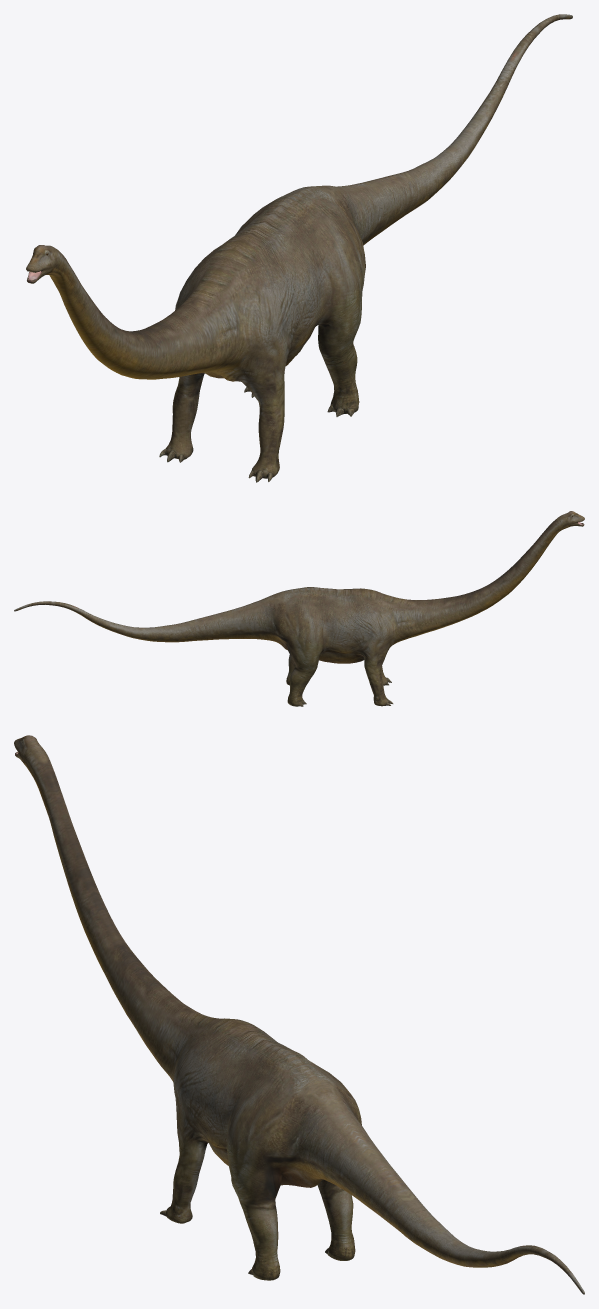
The model's file is dinosaurio3.fbx.
3 views of the same model, one above another, from view 1: azimuth 30°, elevation 25°; view 2: azimuth 150°, elevation 25°; view 3: azimuth 270°, elevation 25° (orthographic). The views are drawn at different scales.
Parts seen in each view (by area): view 1: Object_7.002; view 2: Object_7.002; view 3: Object_7.002.
Boxes of the visible parts, x1=… form: Object_7.002: x1=26, y1=14, x2=572, y2=482; Object_7.002: x1=14, y1=511, x2=584, y2=706; Object_7.002: x1=14, y1=735, x2=584, y2=1294.
Bounding box in the file's own units: 1977 × 810 × 1220.
1 material, 1 textured.
